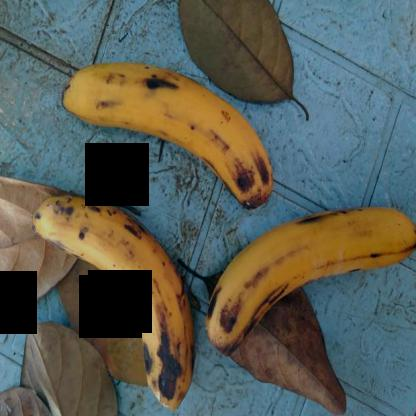overripe: (26, 176, 196, 413)
ripe: (62, 33, 283, 216), (202, 200, 415, 355)
